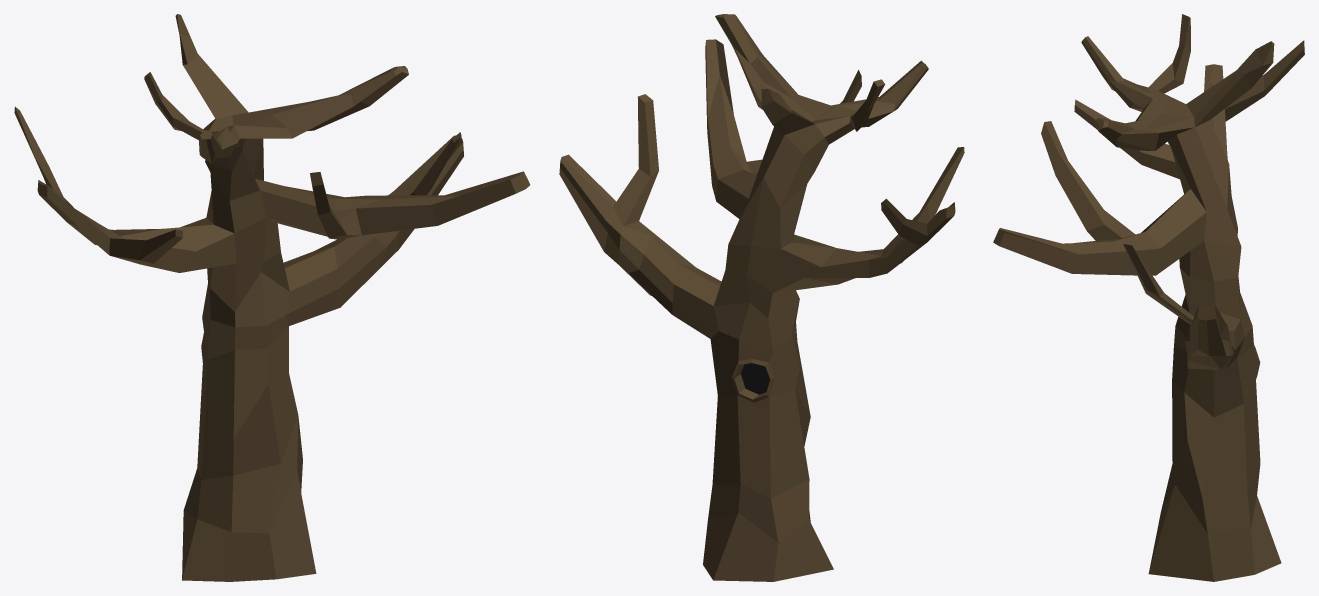
Rendered from Tree03.fbx.
3 renders of one model, left to right at view 1: azimuth 30°, elevation 25°; view 2: azimuth 150°, elevation 25°; view 3: azimuth 270°, elevation 25°, orthographic. The views are drawn at different scales.
Visible parts, largest first — view 1: Trunk; view 2: Trunk; view 3: Trunk.
Part boxes in pixels (x1,y1,x2,y2): Trunk: (14, 14, 530, 581); Trunk: (559, 14, 964, 581); Trunk: (993, 14, 1304, 581).
Bounding box in the file's own units: 765 × 922 × 523.
